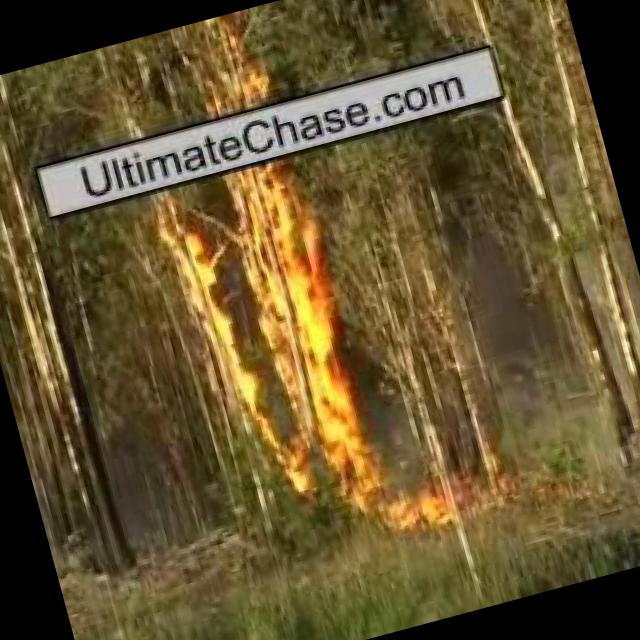Fire: (150, 152, 412, 526), (185, 14, 277, 127), (364, 466, 461, 544)
